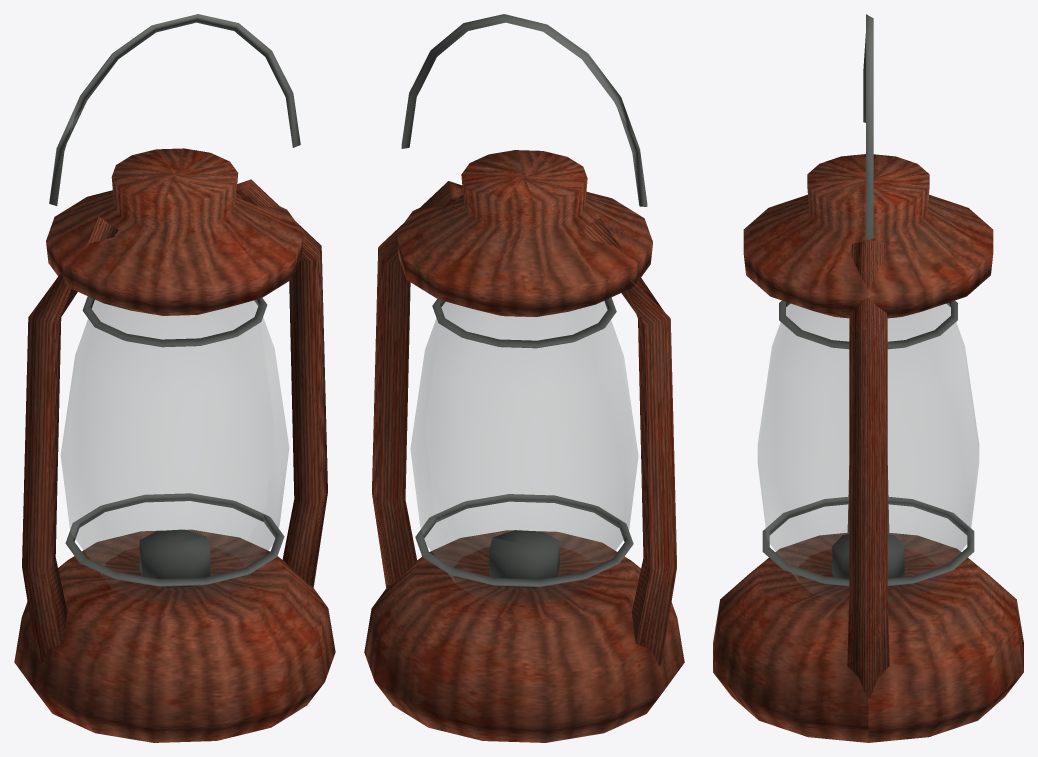
Rendered from prop_lantern_lod1.glb.
3 renders of one model, left to right at view 1: azimuth 30°, elevation 25°; view 2: azimuth 150°, elevation 25°; view 3: azimuth 270°, elevation 25°, orthographic.
Visible parts, largest first — view 1: prop_lantern; view 2: prop_lantern; view 3: prop_lantern.
Part boxes in pixels (x1,y1,x2,y2): prop_lantern: [14, 14, 335, 742]; prop_lantern: [364, 14, 684, 742]; prop_lantern: [713, 14, 1023, 742].
Size of the model in its own units: 0.1444 by 0.3 by 0.1283.
Materials: 3 (1 with a texture image).
